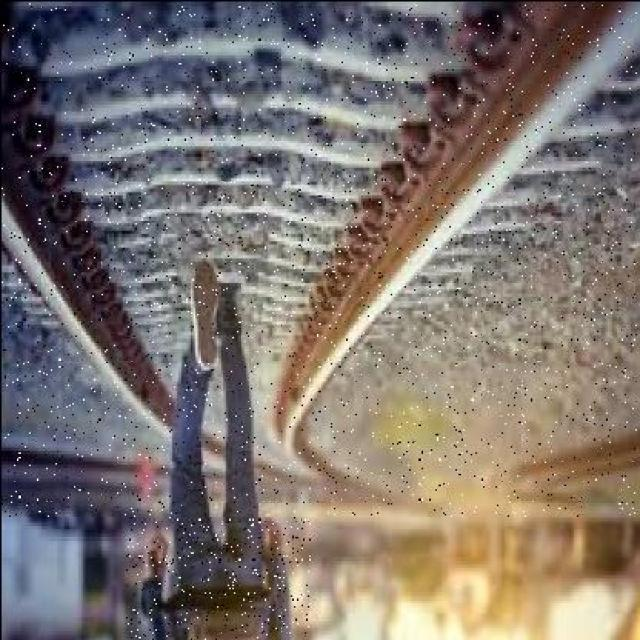danger: (126, 254, 309, 640)
rail: (1, 2, 635, 515)
